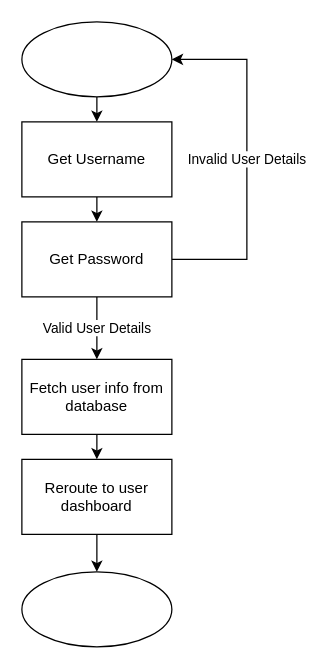
Image size: 328x669. Some labels were removed from this diagram. Each missing label, with the centre of its shape:
"End" goes at point 96,609.
"Start" goes at point 96,59.
